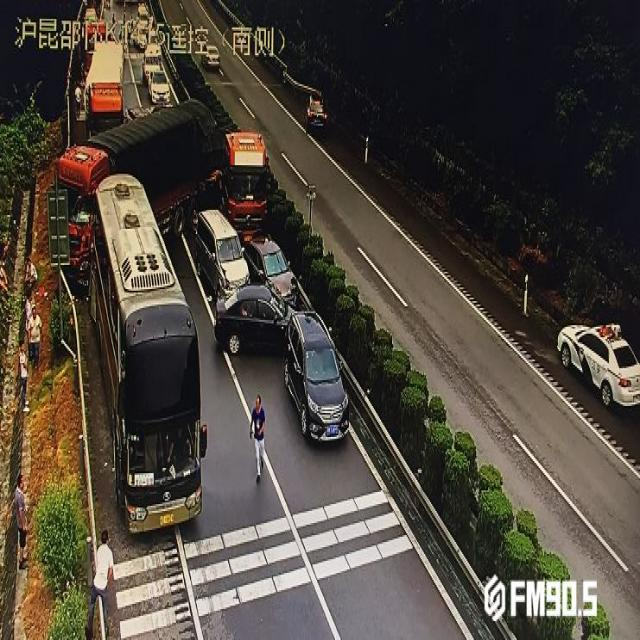point: (99, 0, 242, 217)
